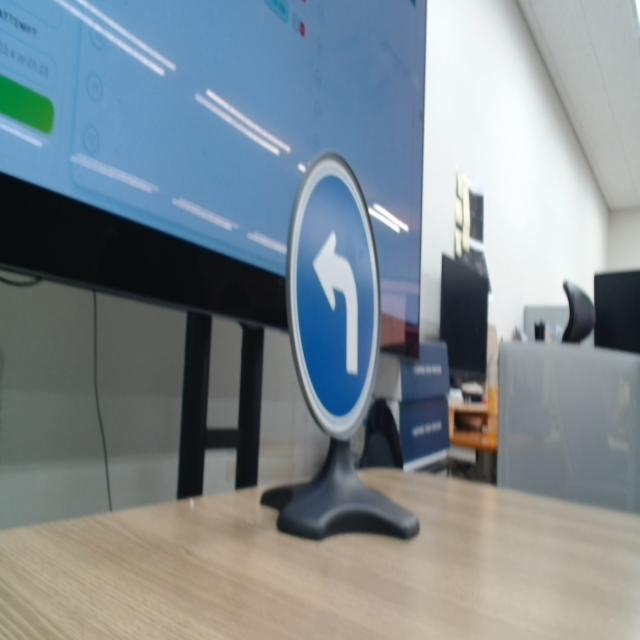left_direction: (280, 134, 382, 453)
